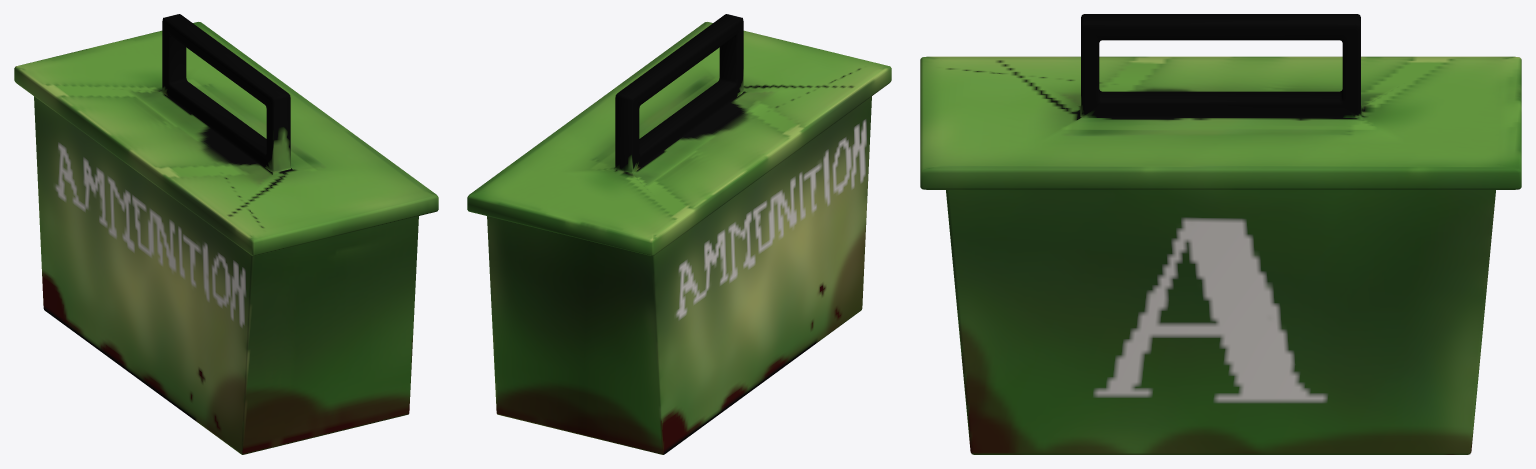
File: AmmoCan.fbx
3 renders of one model, left to right at view 1: azimuth 30°, elevation 25°; view 2: azimuth 150°, elevation 25°; view 3: azimuth 270°, elevation 25°, orthographic. The views are drawn at different scales.
Visible parts, largest first — view 1: Cube; view 2: Cube; view 3: Cube.
Part boxes in pixels (x1,y1,x2,y2): Cube: [14, 14, 438, 454]; Cube: [467, 14, 891, 454]; Cube: [920, 14, 1521, 454].
Bounding box in the file's own units: 120 × 189 × 267.
